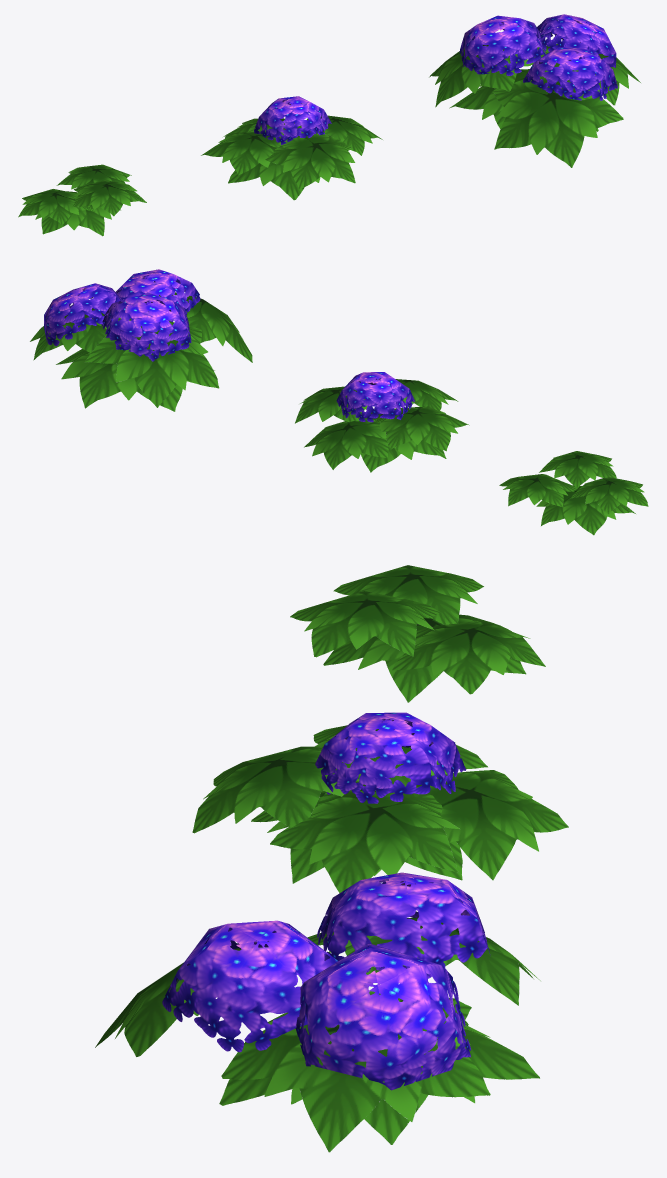
File: Hydrangea_Lv.FBX
The picture shows the model from 3 angles, top to bottom: view 1: azimuth 30°, elevation 25°; view 2: azimuth 150°, elevation 25°; view 3: azimuth 270°, elevation 25°; orthographic projection. The views are drawn at different scales.
Visible parts, largest first — view 1: Hydrangea_Lv3, Hydrangea_Lv2, Hydrangea_Lv1; view 2: Hydrangea_Lv3, Hydrangea_Lv2, Hydrangea_Lv1; view 3: Hydrangea_Lv3, Hydrangea_Lv2, Hydrangea_Lv1.
Part boxes in pixels (x1,y1,x2,y2): Hydrangea_Lv3: [429, 14, 640, 167]; Hydrangea_Lv2: [201, 96, 382, 200]; Hydrangea_Lv1: [18, 164, 146, 236]; Hydrangea_Lv3: [30, 269, 252, 411]; Hydrangea_Lv2: [295, 372, 469, 472]; Hydrangea_Lv1: [499, 451, 648, 535]; Hydrangea_Lv3: [95, 872, 540, 1152]; Hydrangea_Lv2: [192, 712, 568, 893]; Hydrangea_Lv1: [290, 565, 545, 702].
Bounding box in the file's own units: 237 × 35.1 × 81.46.
